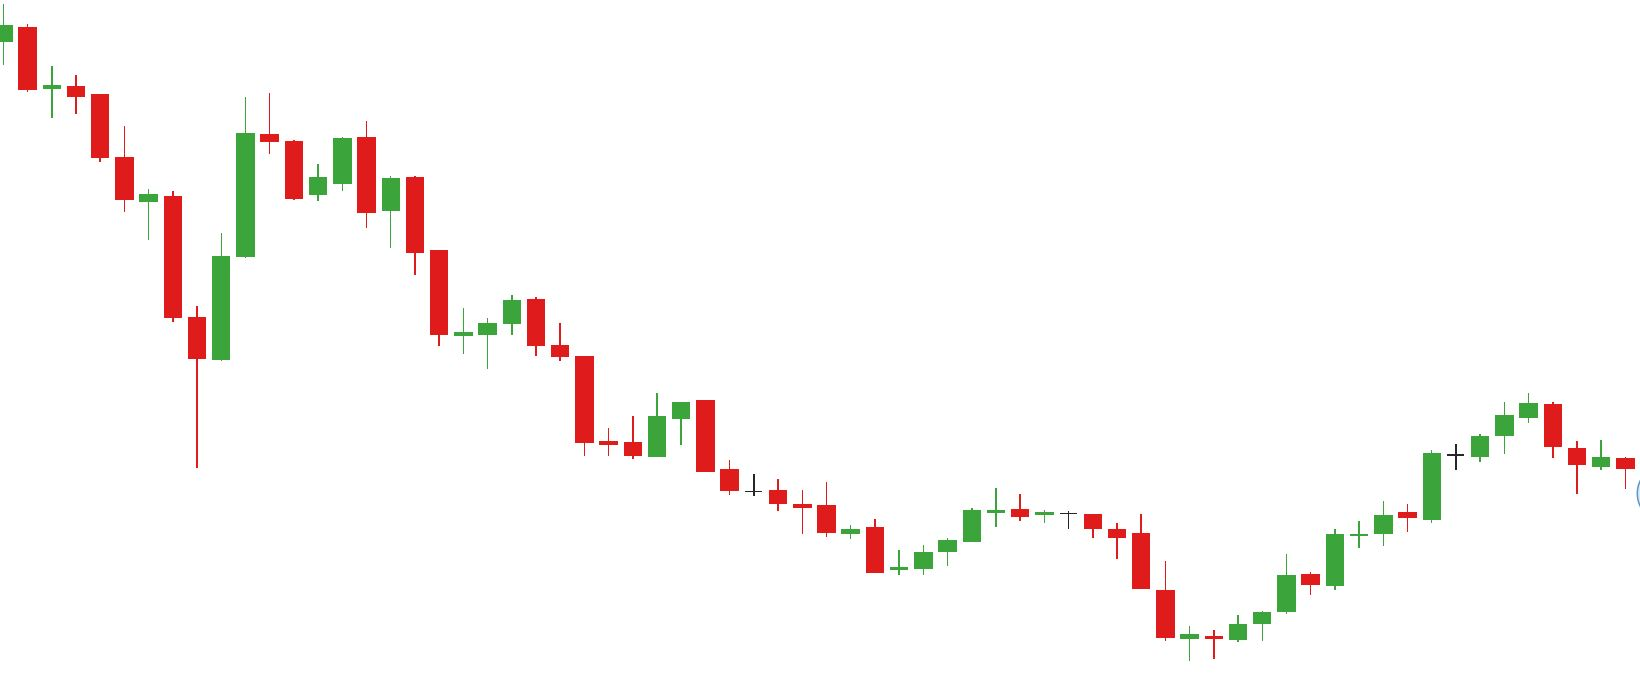sell: (111, 97, 277, 249)
